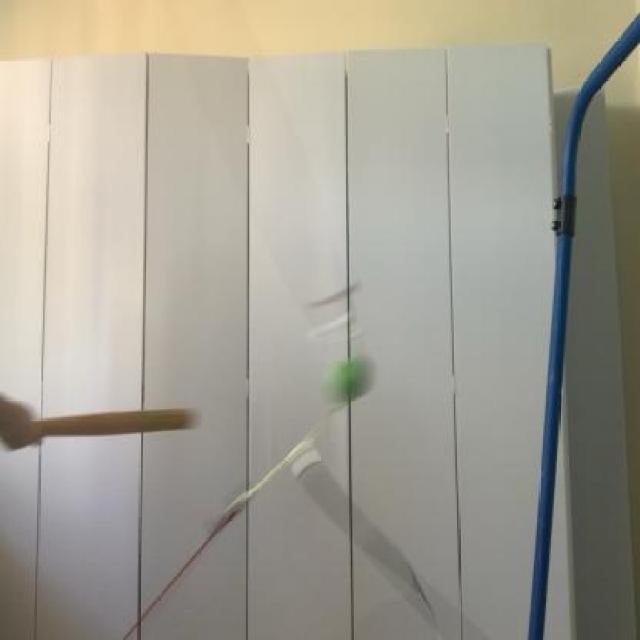baseball: (319, 349, 387, 416)
